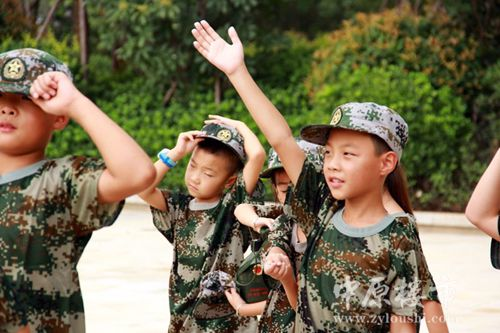handsup: (189, 15, 440, 330), (2, 45, 164, 332), (136, 107, 291, 321)
